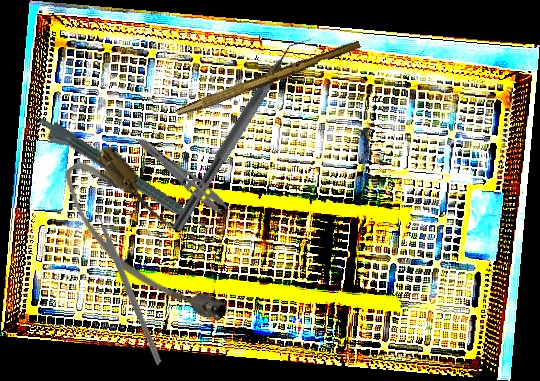Cannula: (49, 137, 241, 350)
Chopper: (41, 193, 221, 367), (171, 27, 315, 241)
Handpiece: (32, 114, 209, 239)
Scalpel Handle: (175, 35, 362, 123)
Tissue Forceps: (128, 133, 244, 231)
